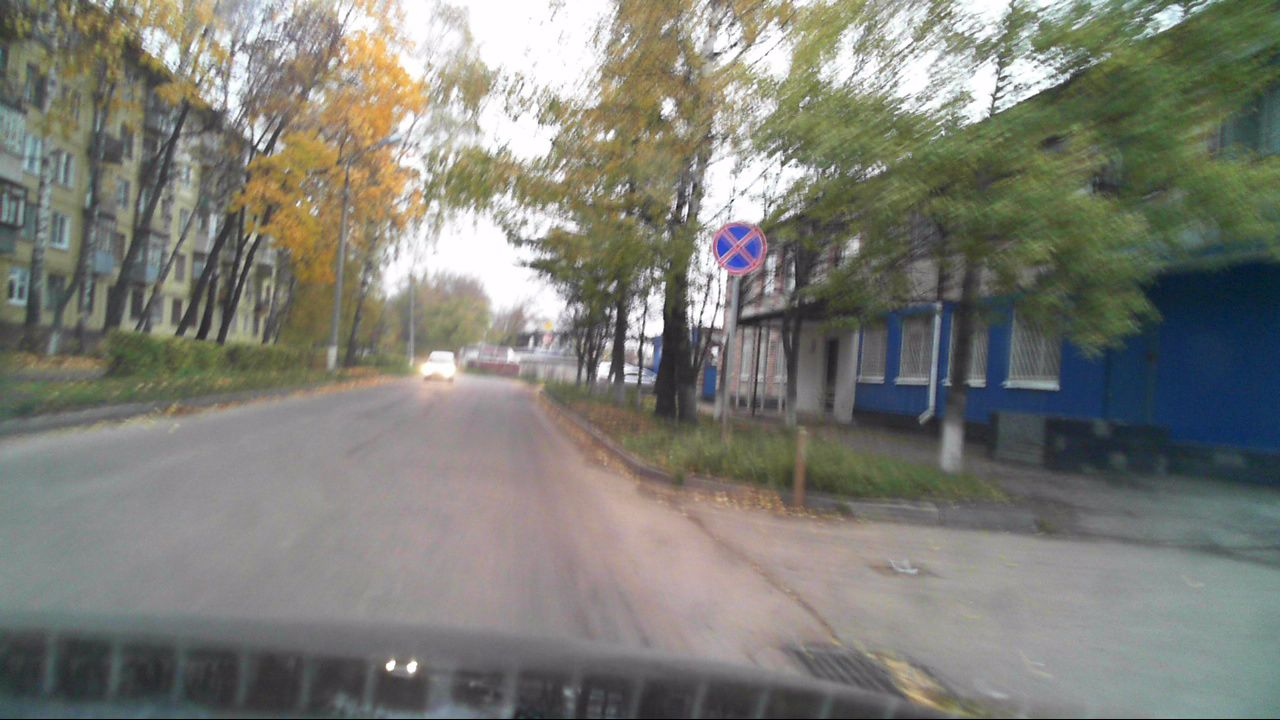No Parking: (711, 222, 766, 275)
